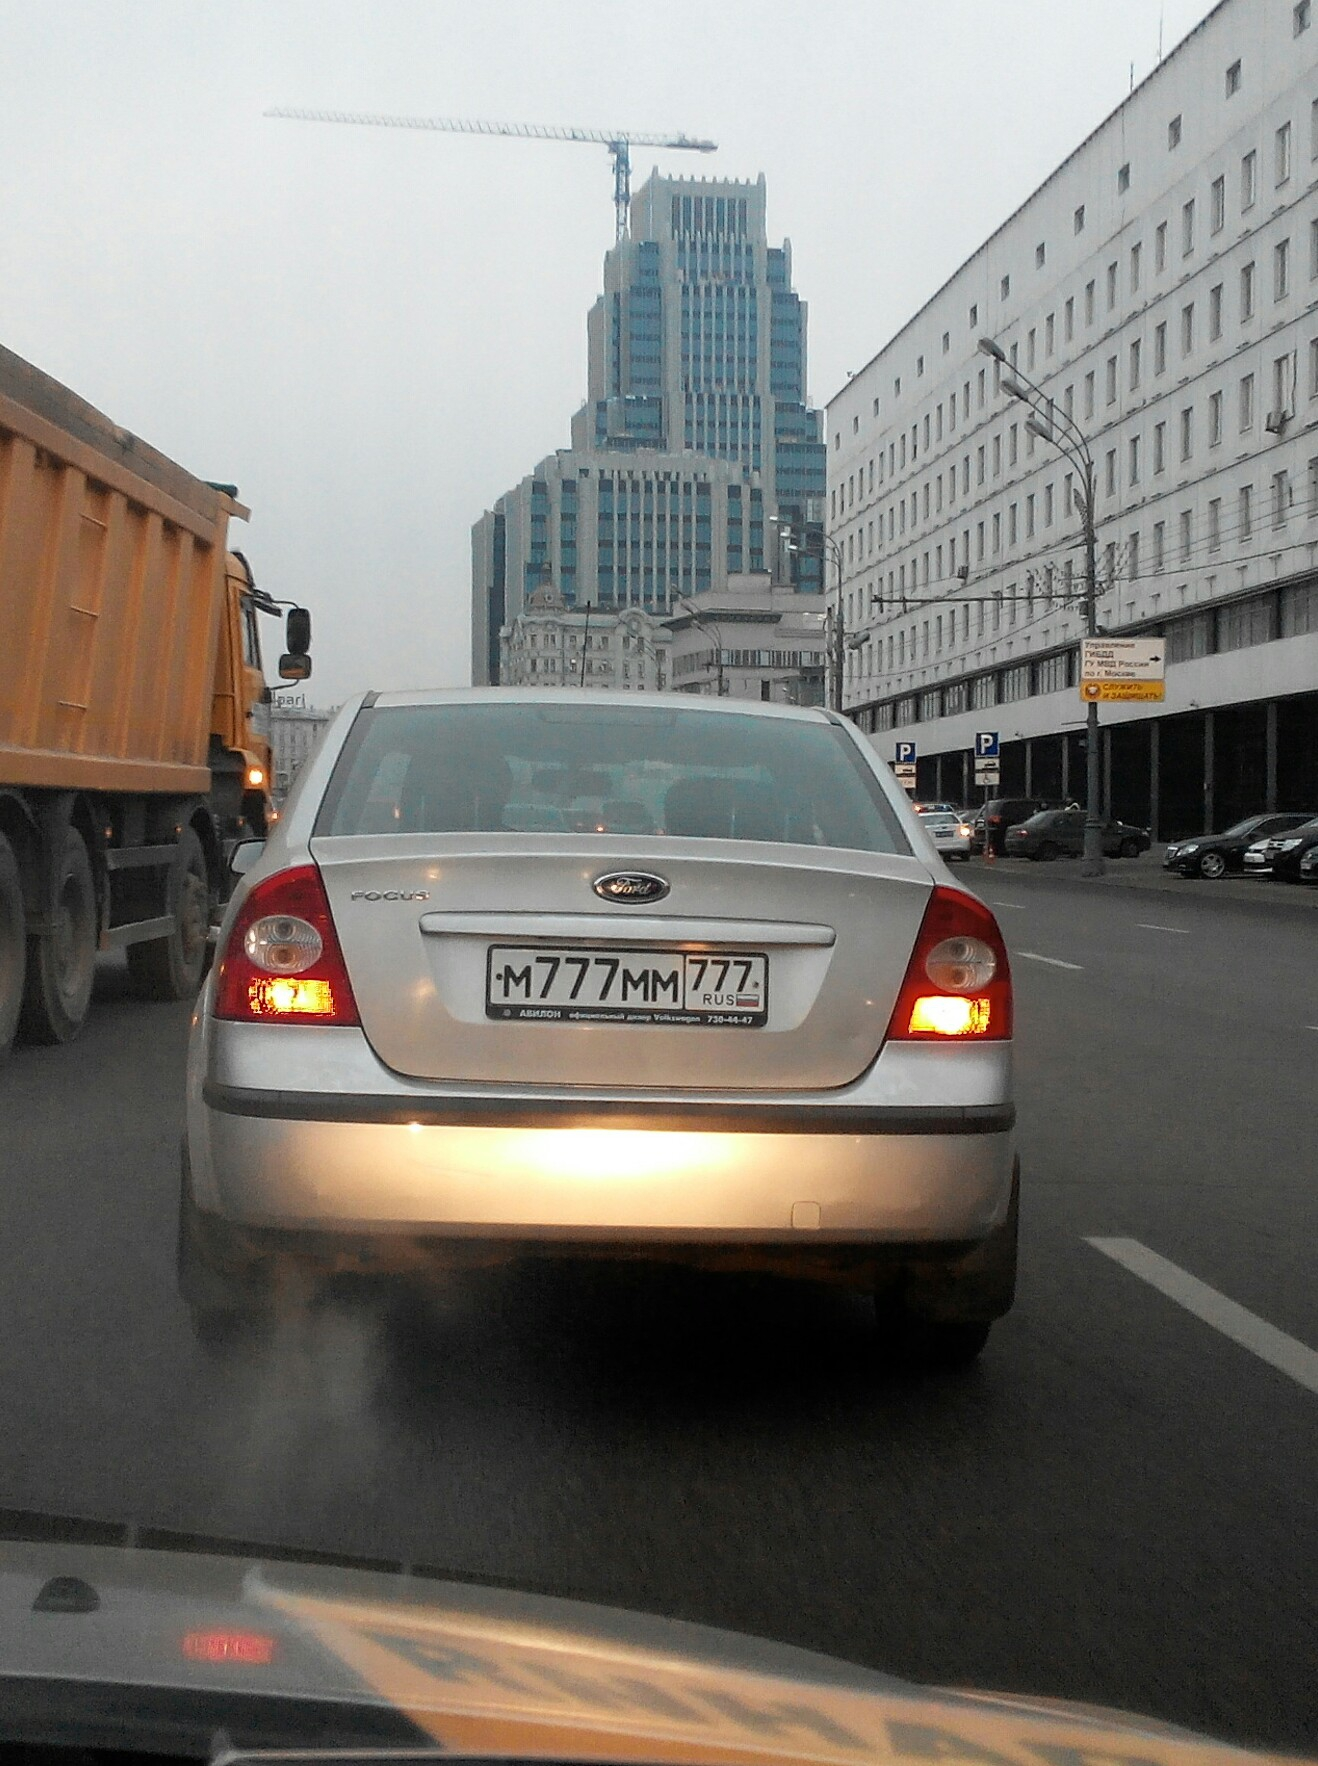number_plate: (487, 946, 767, 1024)
